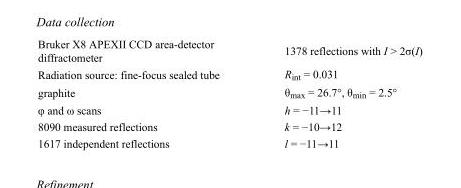table: (37, 37, 421, 149)
table column: (37, 37, 251, 149), (251, 37, 421, 149)
table row: (37, 37, 421, 65), (37, 65, 421, 83), (37, 83, 421, 101), (37, 117, 421, 134), (37, 101, 421, 117), (37, 134, 421, 149)
